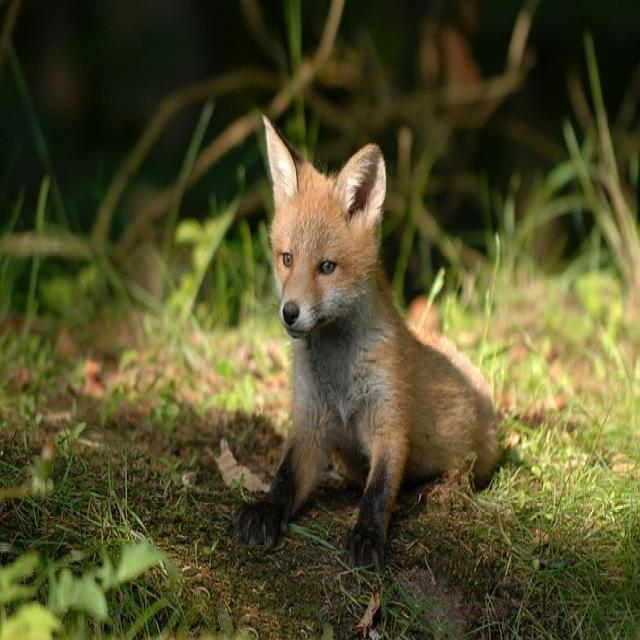Carnivorous: (232, 122, 509, 638)
